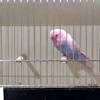budgie: (47, 29, 96, 71)
